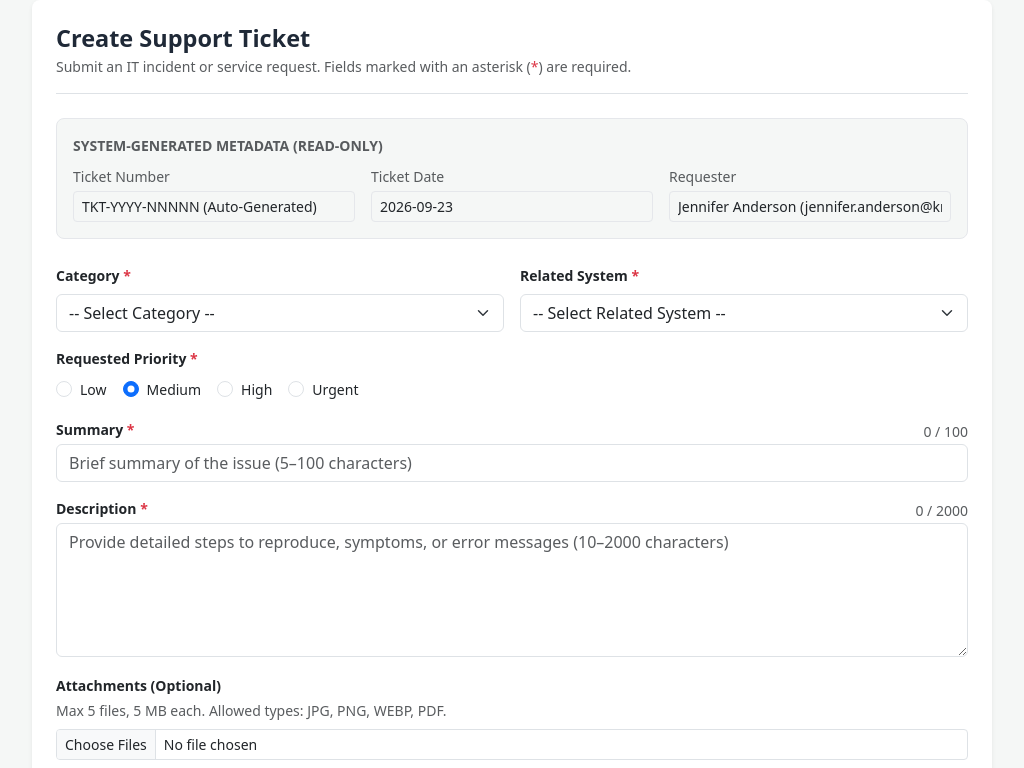
Test: Component: CreateTicket Form (UI-03, UI-04, UI-05) › shows success view with generated ticket number upon 201 response (AC-01, AC-05)
Select "Hardware" in the dropdown labelled "Category *" at (280, 313), box [56,294,504,332]
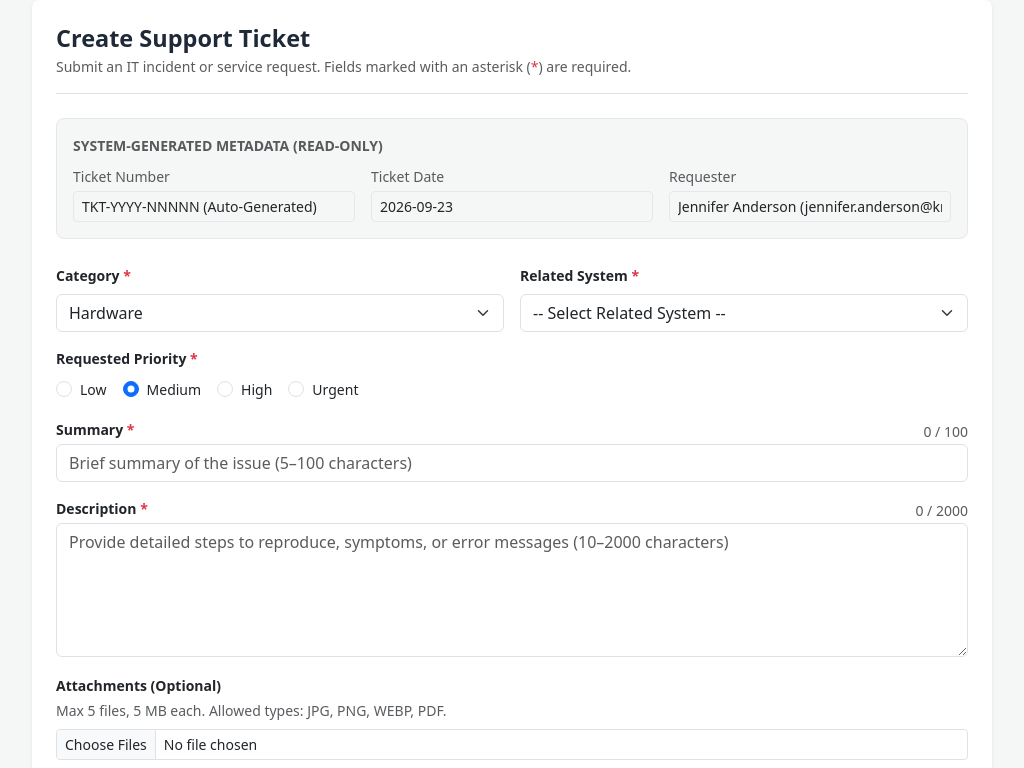
Select "Email" in the dropdown labelled "Related System *" at (744, 313), box [520,294,968,332]
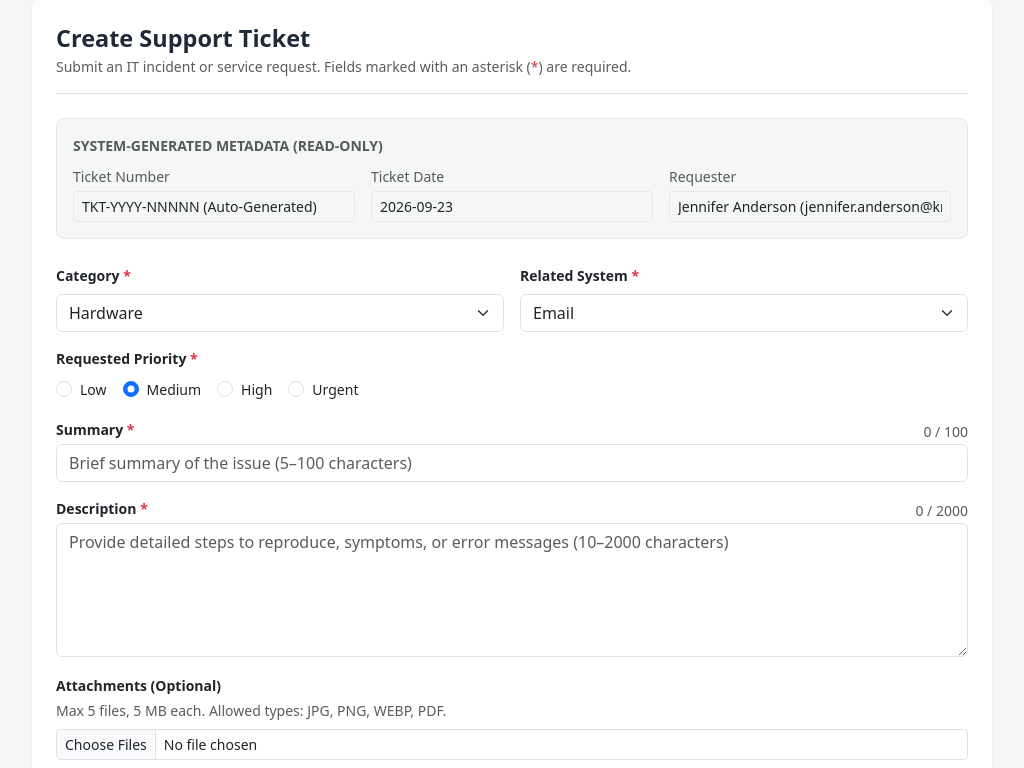
Type "Printer broken in library" into the field labelled "Summary *" at (512, 463), box [56,444,968,482]
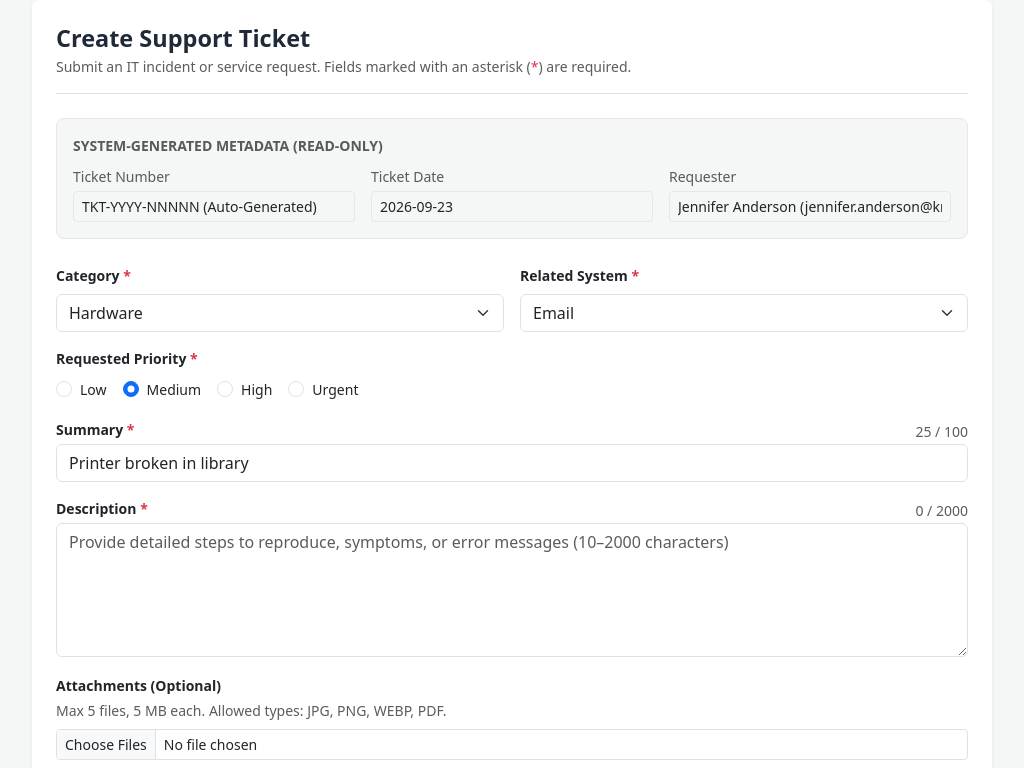
Replace the text in the text box labelled "Description *" with "The paper tray feed motor makes a loud grinding noise." at (512, 590), box [56,523,968,657]
(page scrolled)
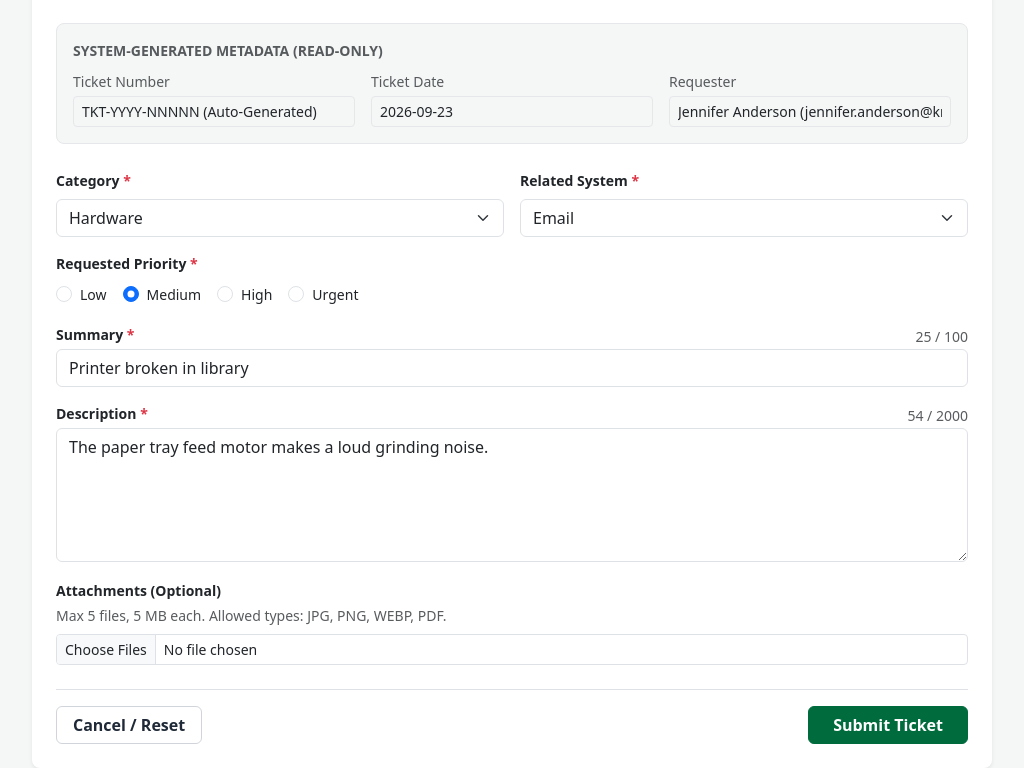
Click the button "Submit Ticket" at (888, 725), box [808,706,968,744]
(page scrolled)
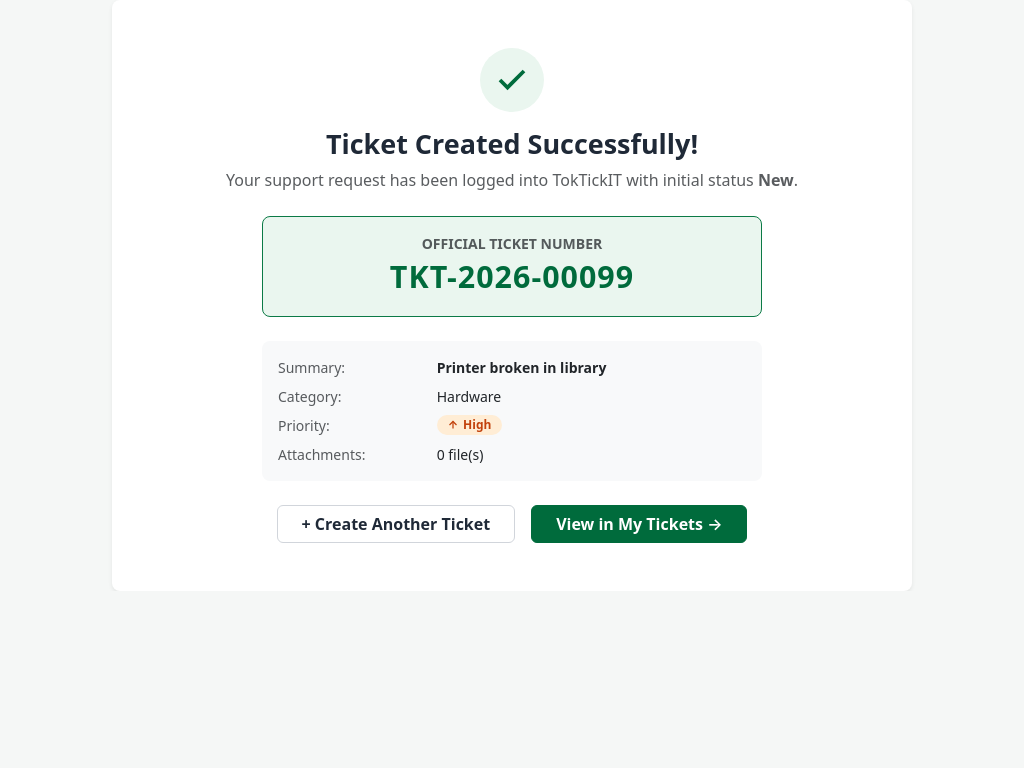
Expected: the heading "Ticket Created Successfully!" is shown, [326,125,698,162]
Expected: the text with test id "ticket-number-display" reads "TKT-2026-00099", [390,255,634,297]
Expected: the button "View in My Tickets →" is shown, [531,505,748,543]
